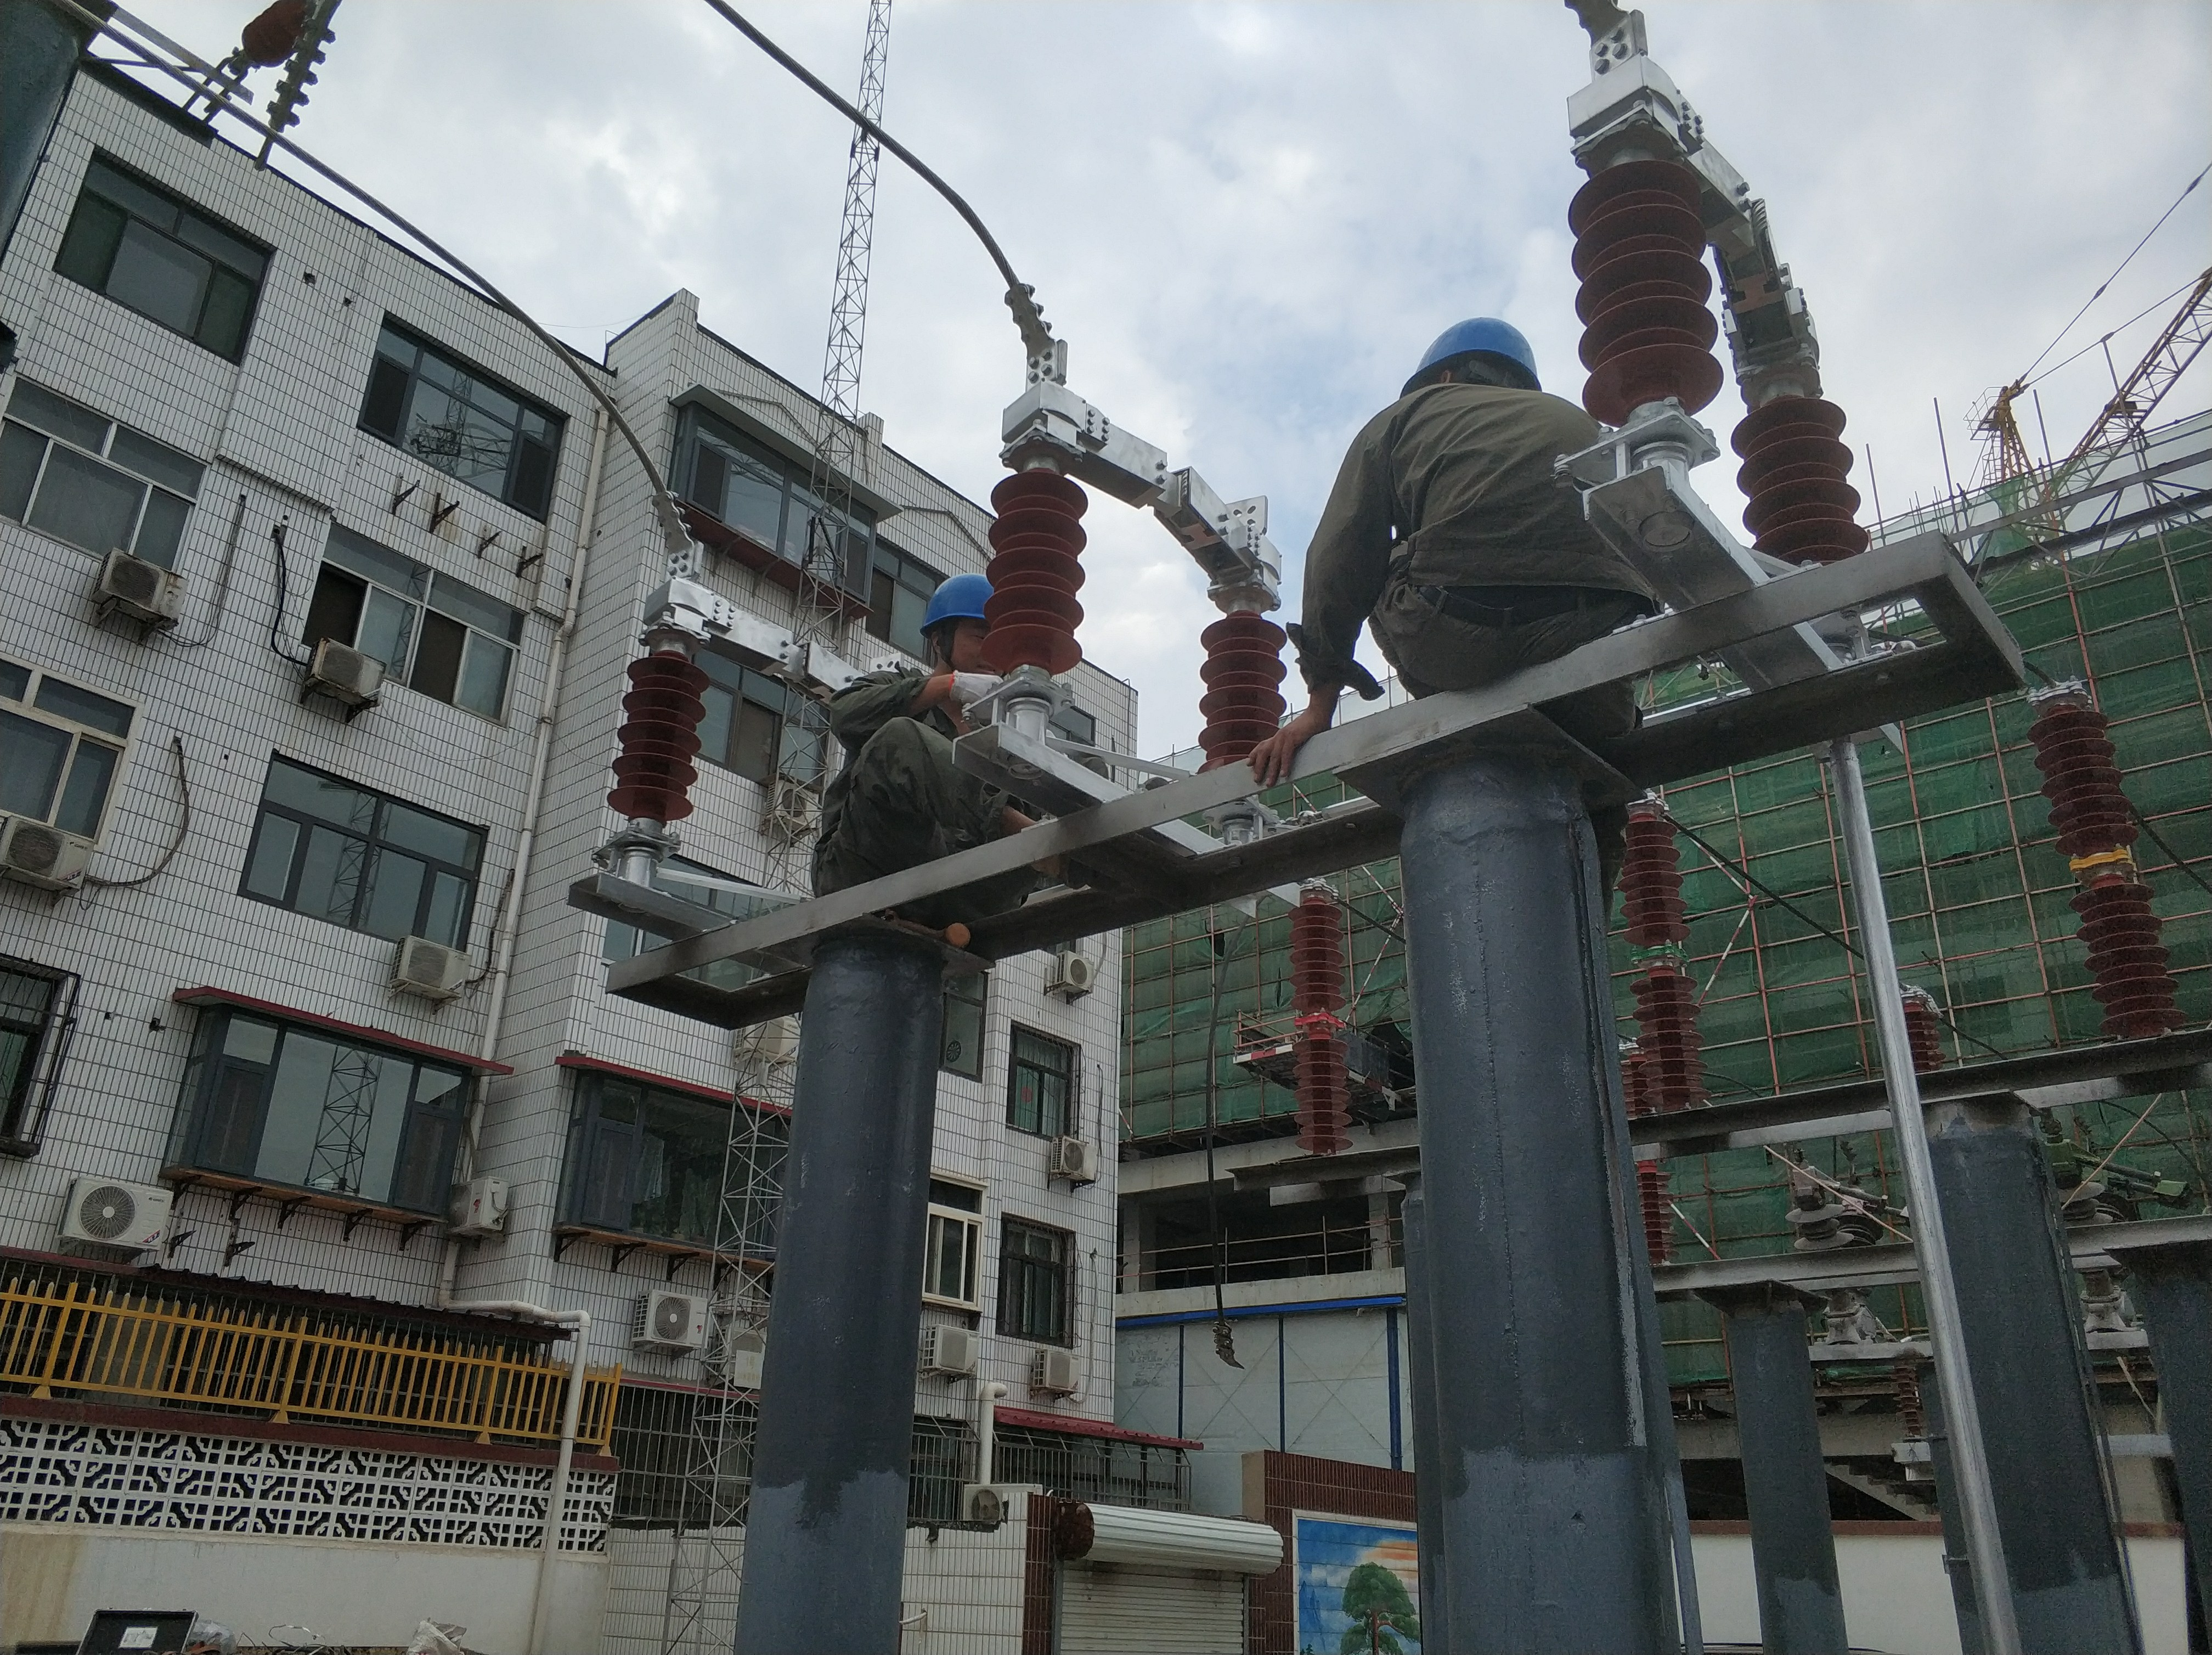hat: (1407, 306, 1541, 410), (916, 562, 999, 671)
